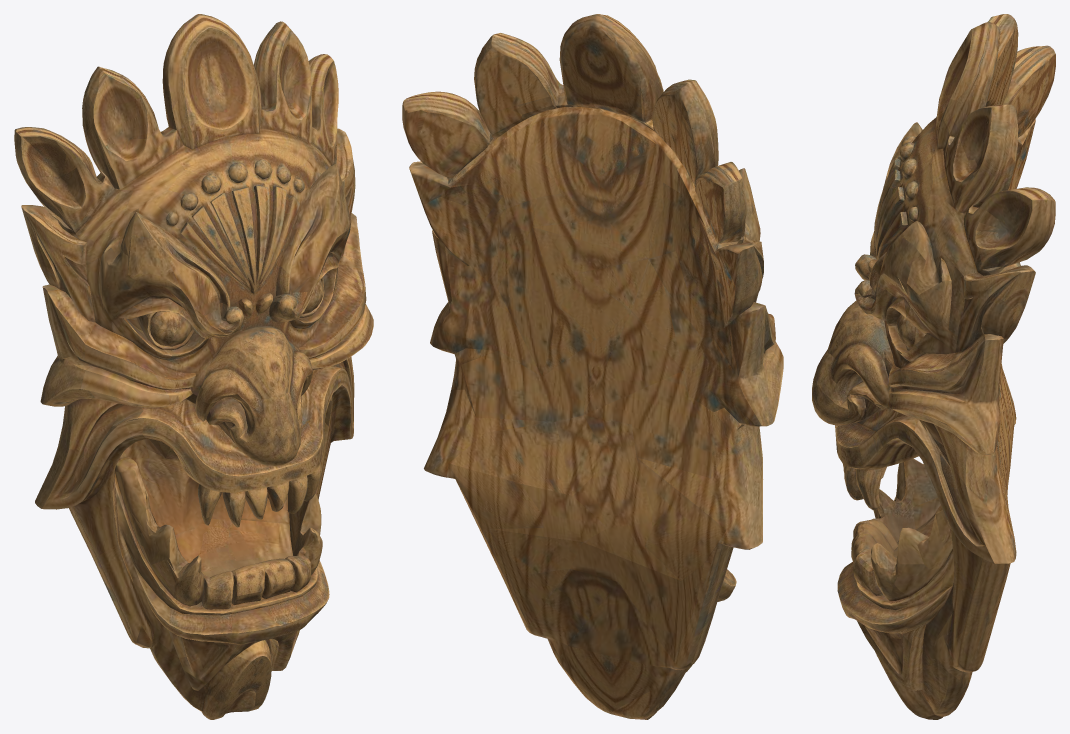
The model's file is maschera_tiki.glb.
The picture shows the model from 3 angles, left to right: view 1: azimuth 30°, elevation 25°; view 2: azimuth 150°, elevation 25°; view 3: azimuth 270°, elevation 25°; orthographic projection. The views are drawn at different scales.
Parts seen in each view (by area): view 1: Mesh_0; view 2: Mesh_0; view 3: Mesh_0.
Part boxes in pixels (<box>): Mesh_0: <box>14,14,373,719</box>; Mesh_0: <box>402,14,783,719</box>; Mesh_0: <box>812,14,1055,719</box>.
Size of the model in its own units: 0.3967 by 0.8 by 0.2574.
Materials: 1 (1 with a texture image).
